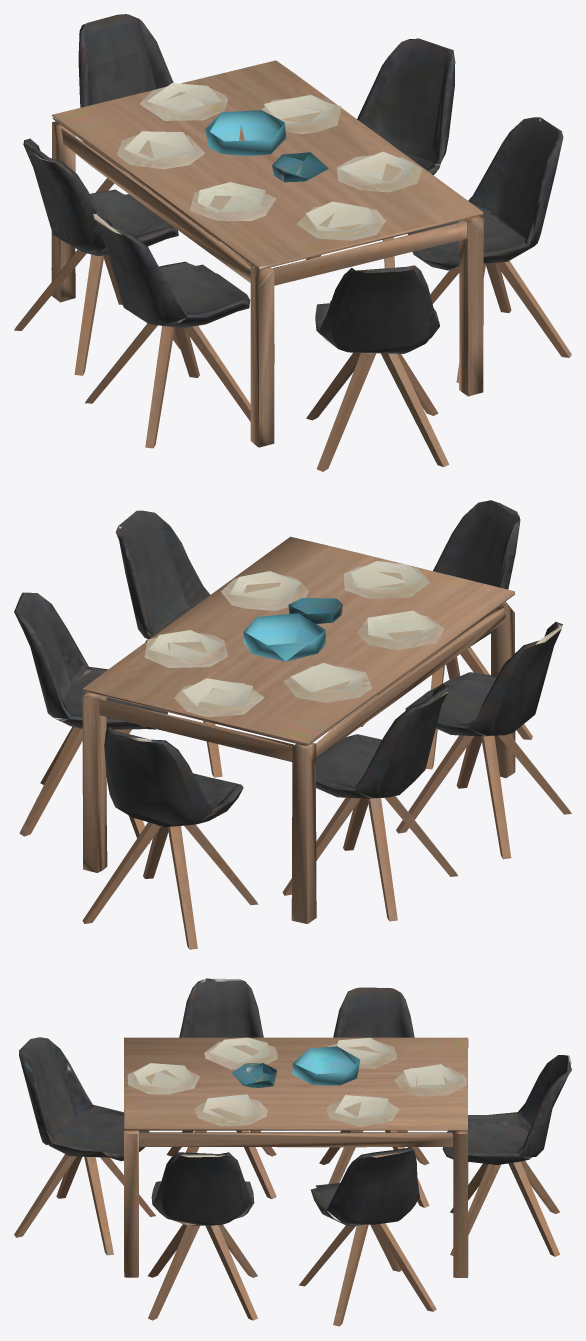
File: DiningTable0006.obj
The picture shows the model from 3 angles, top to bottom: view 1: azimuth 30°, elevation 25°; view 2: azimuth 150°, elevation 25°; view 3: azimuth 270°, elevation 25°; orthographic projection. The views are drawn at different scales.
Size of the model in its own units: 1.97 by 0.879 by 2.59.
1 material, 1 textured.
